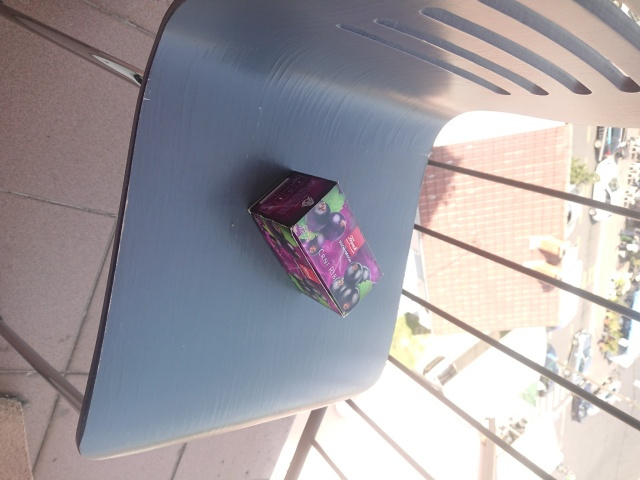Franck Black Currant Tea 60g: (245, 166, 386, 320)
